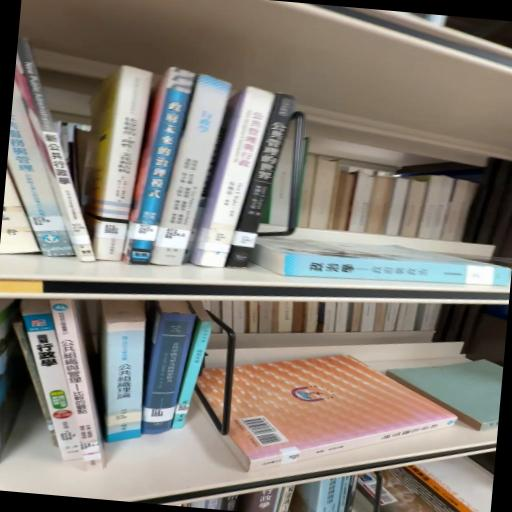flat: (225, 356, 458, 472), (254, 239, 512, 287), (199, 369, 229, 417)
